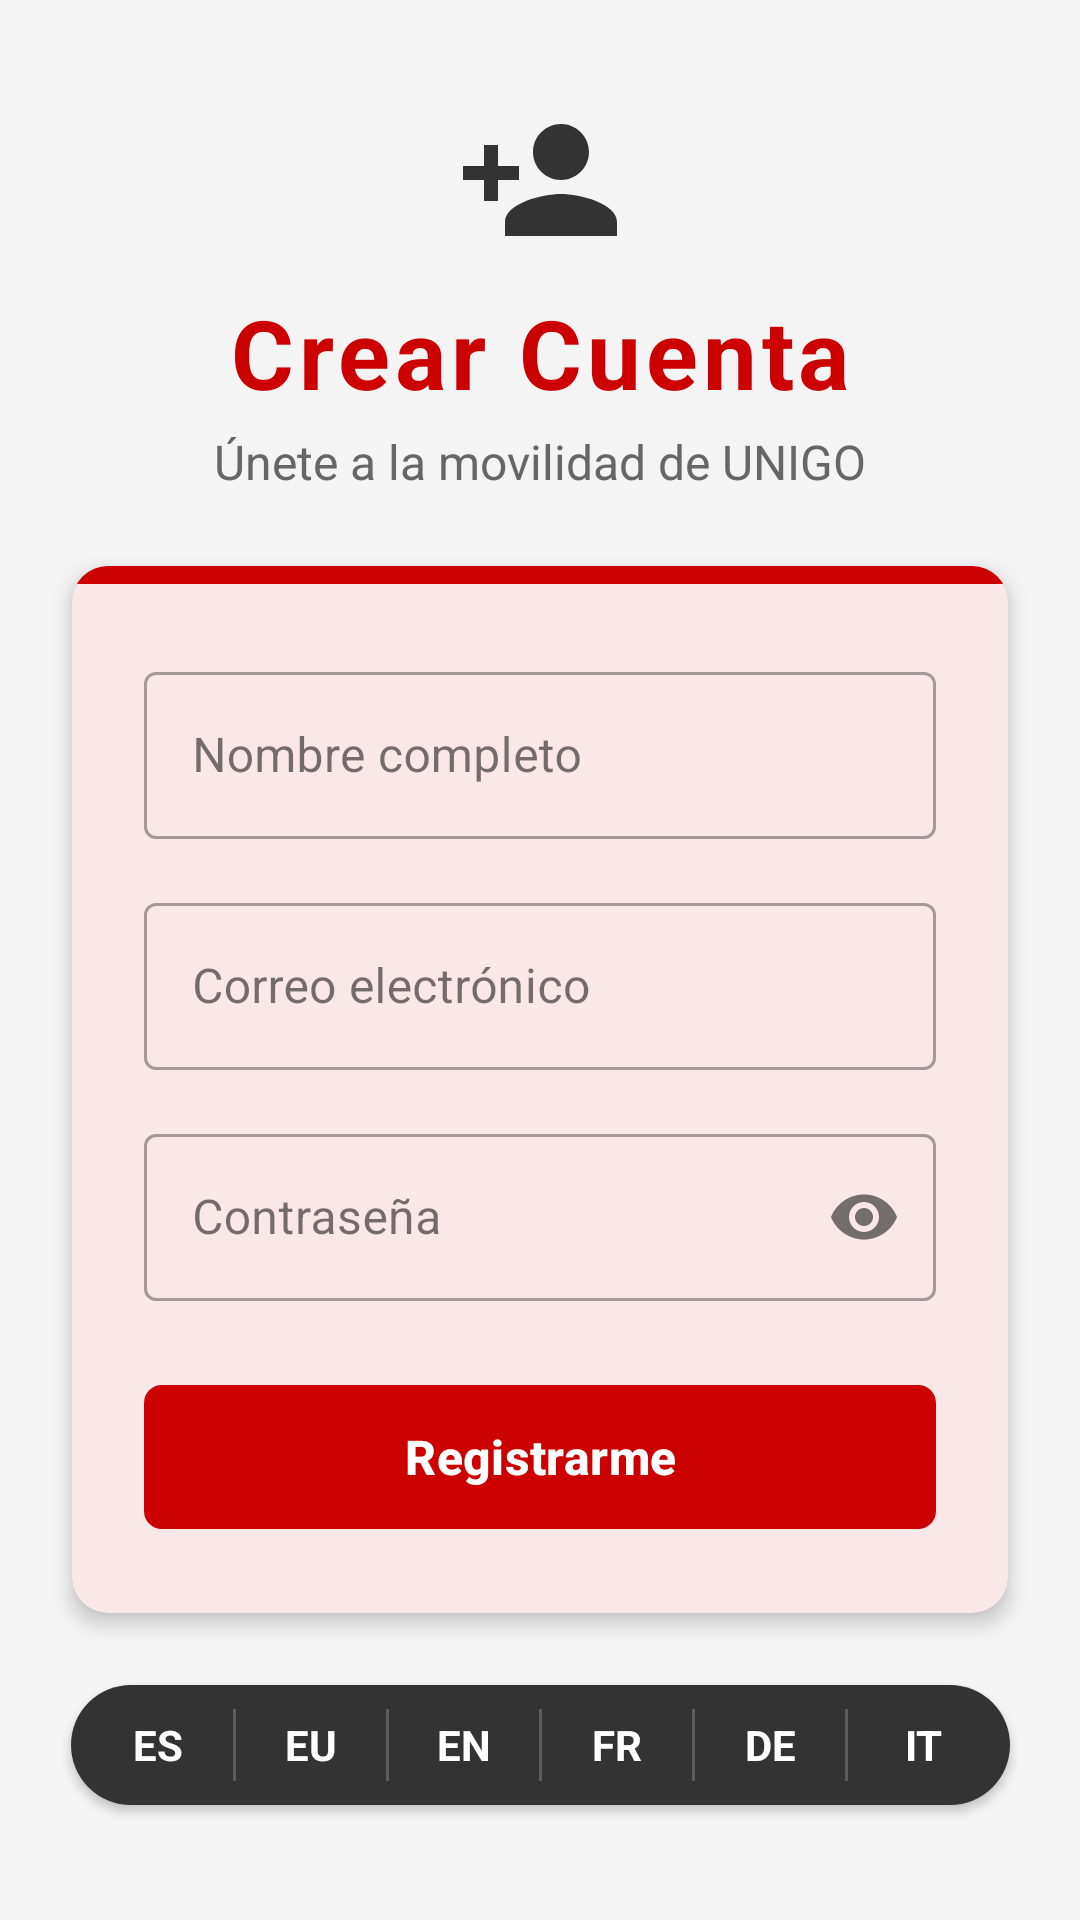

Screen size 1080px×1920px. Icon name, then its box in pixels as (x1, y1, x2, y2):
person add: (463, 124, 617, 236)
